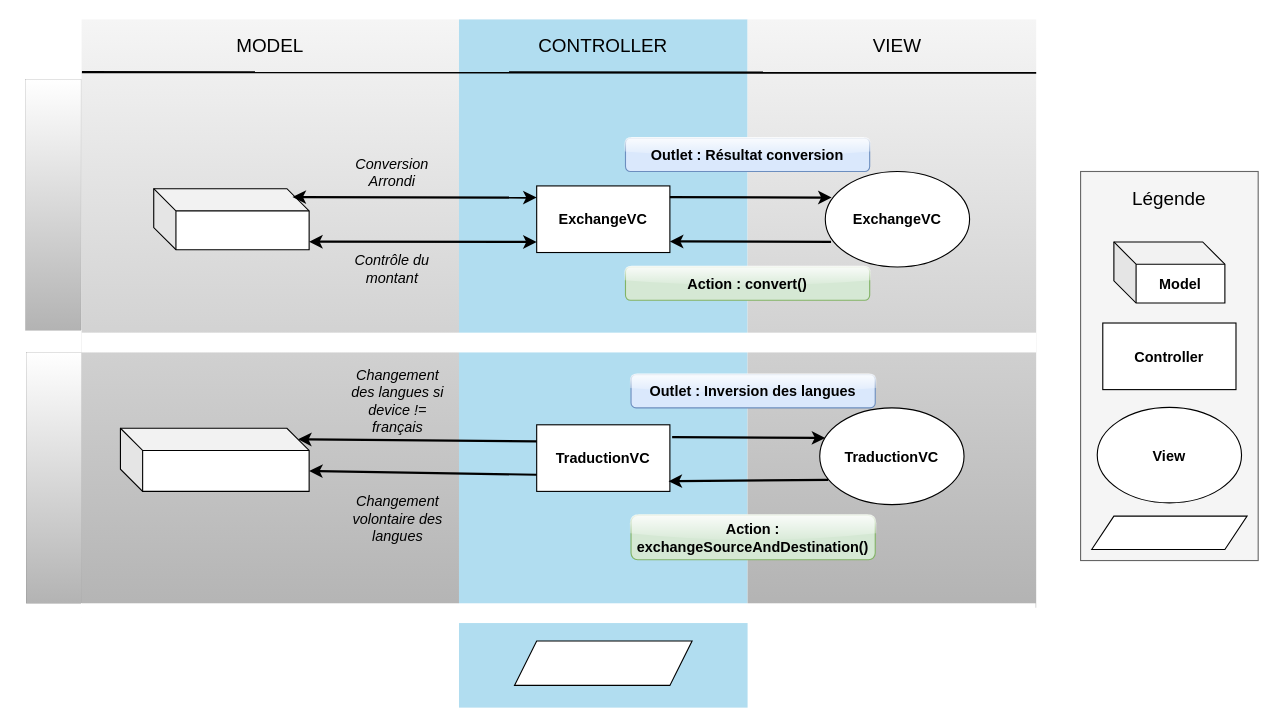
This 1278x726 diagram has some shape labels left out. The shapes that lost their labels are listed below. From the top down, each one's box as (x1, y1, x2, y2) in pixels, then its label:
(25, 79, 80, 330): EXCHANGE
(153, 188, 309, 250): ExchangeControl
(26, 352, 81, 603): TRADUCTION
(119, 427, 309, 491): LanguageConfiguration
(1091, 515, 1247, 549): Fichier support
(513, 640, 692, 685): Extension
